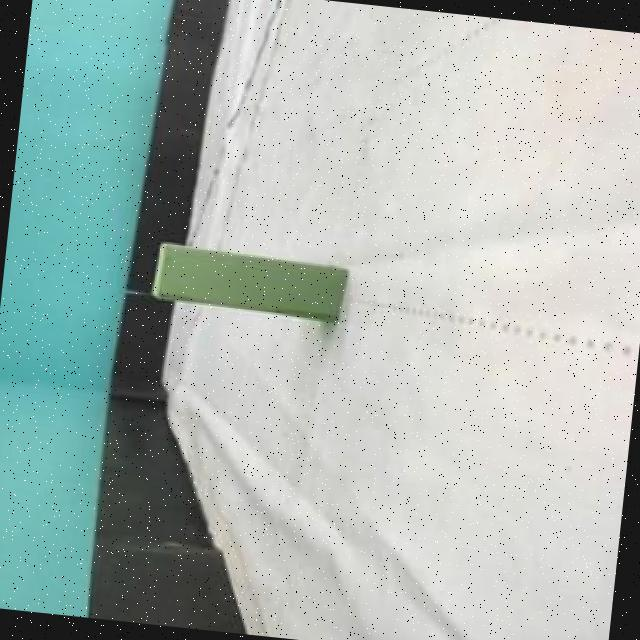greenbox: (150, 238, 350, 320)
